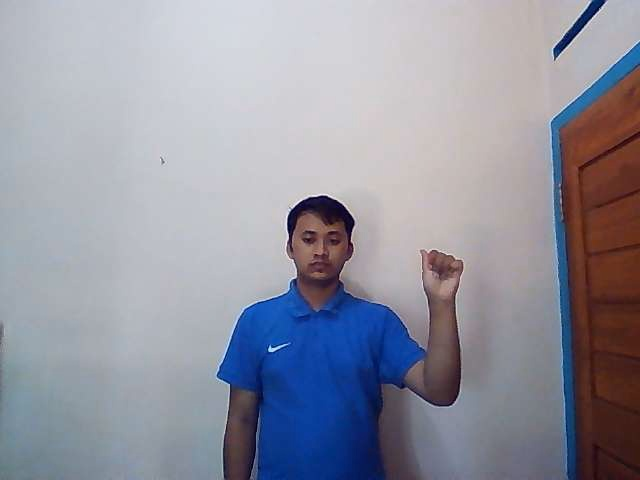A: (418, 248, 465, 301)
